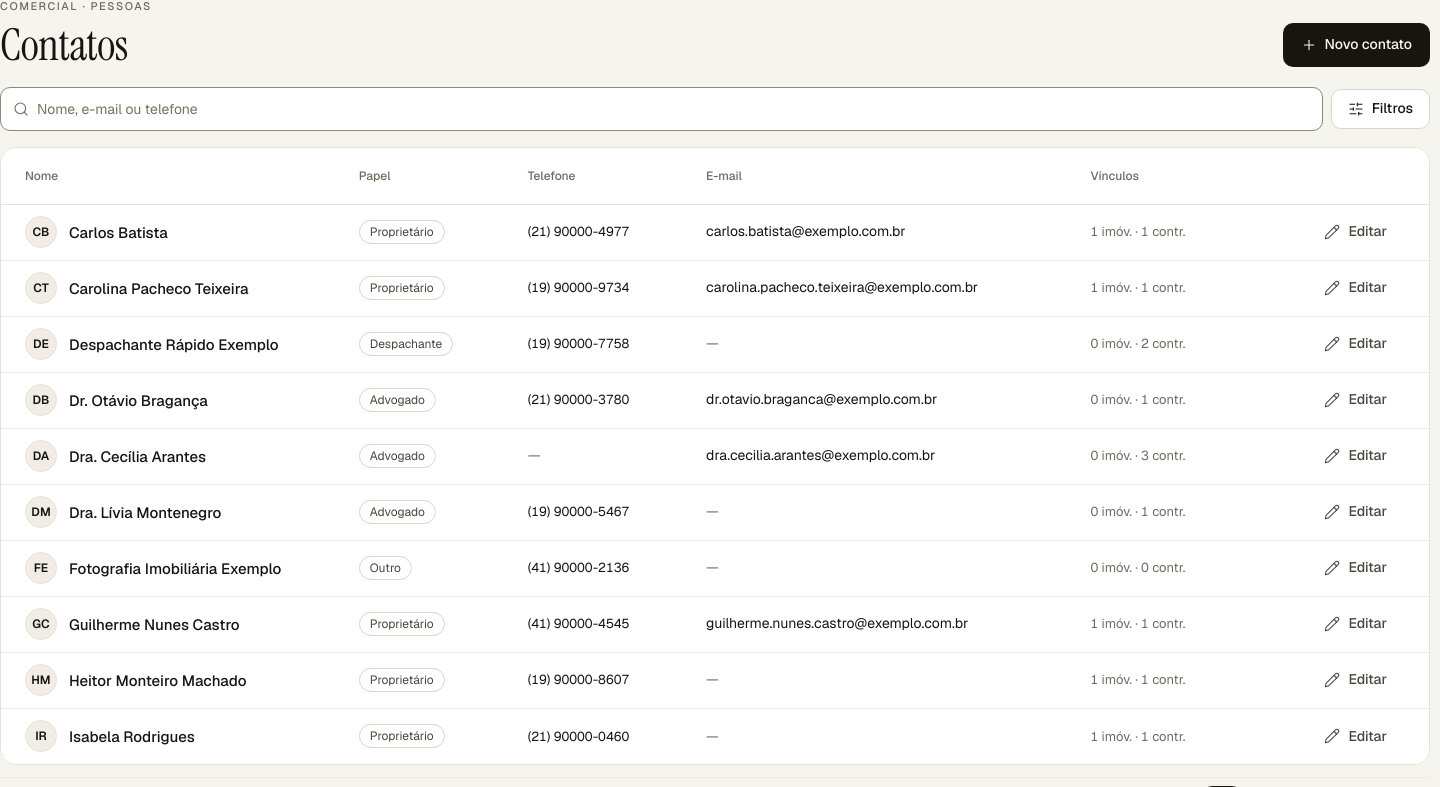
Test: TelaContatos (RF-74) › cria contato: valida inline e depois salva com toast
Click the button "Novo contato". click: (1356, 45)
box: [1283,23,1430,67]
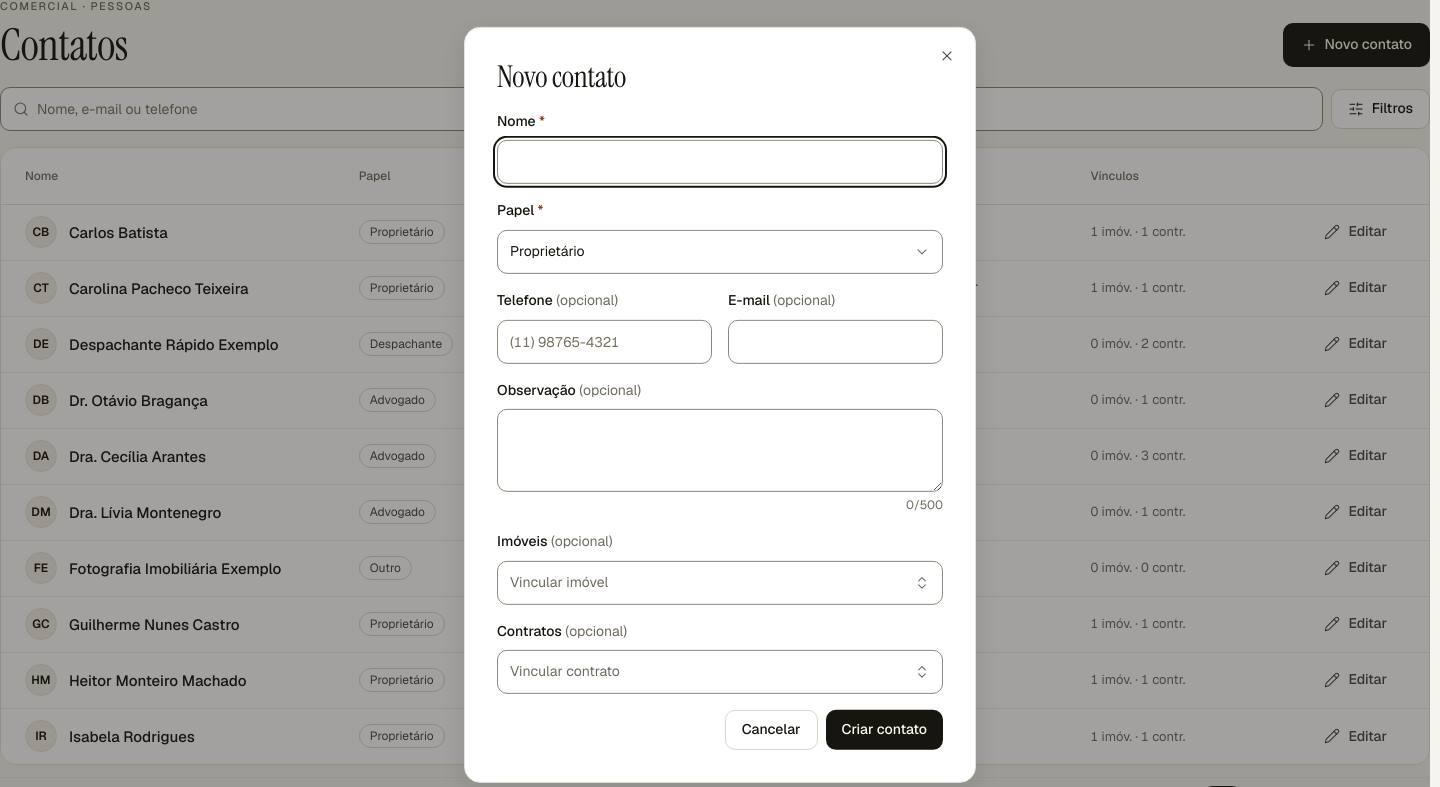
Click the button "Criar contato". click: (884, 730)
box: [826,710,943,750]
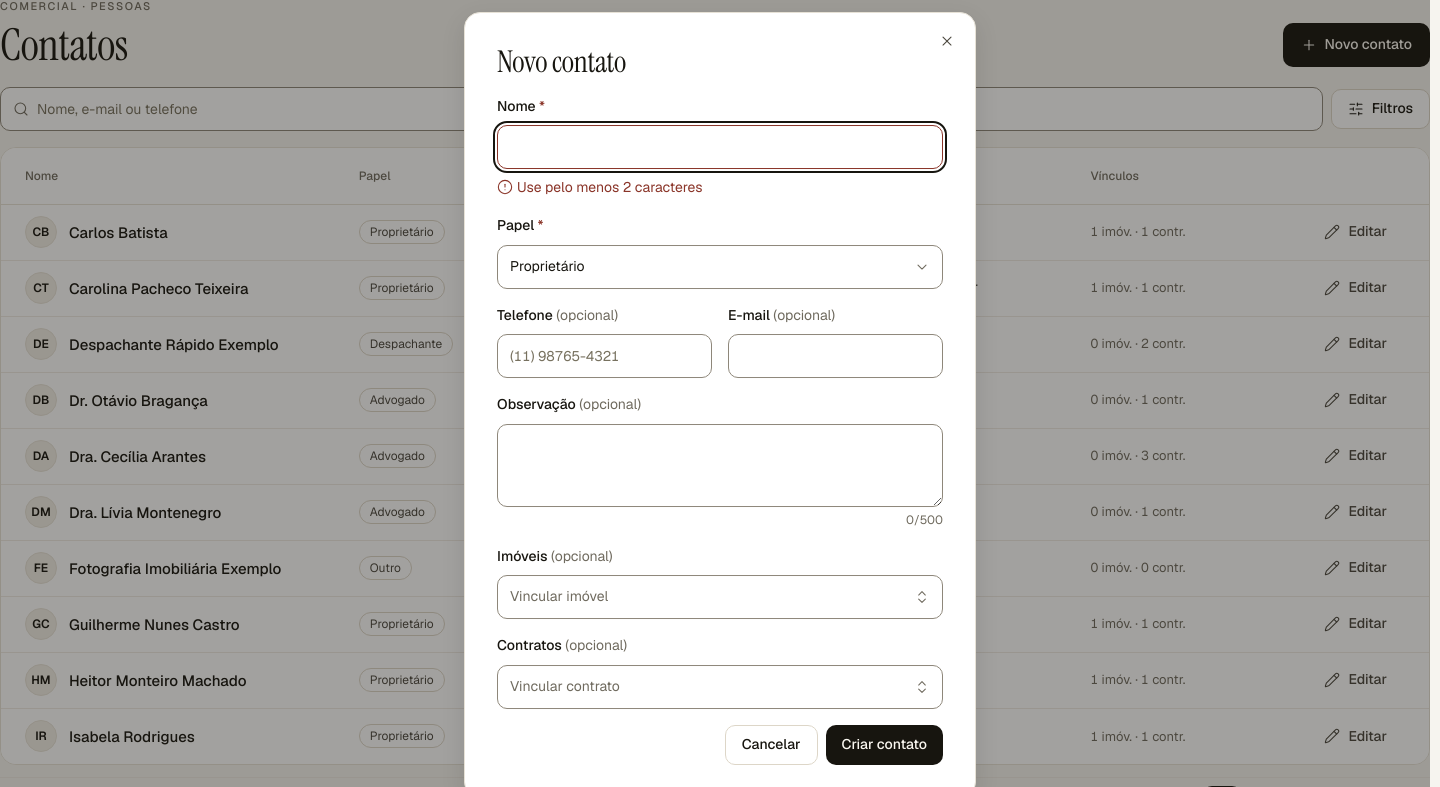
Type "Paulo Teste" into the field labelled "Nome *". click: (720, 147)
box: [510,126,930,168]
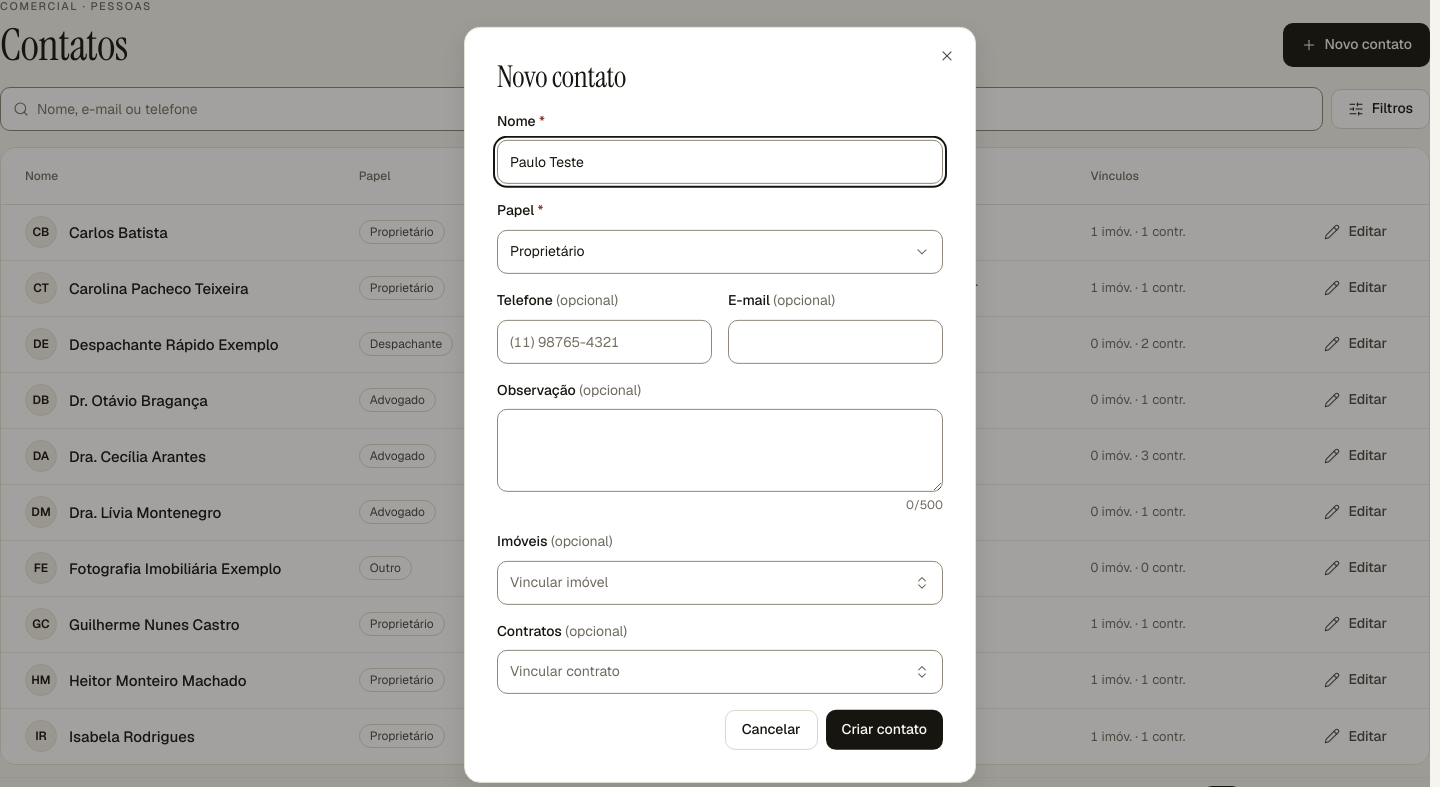
Click the button "Criar contato". click: (884, 730)
box: [826,710,943,750]
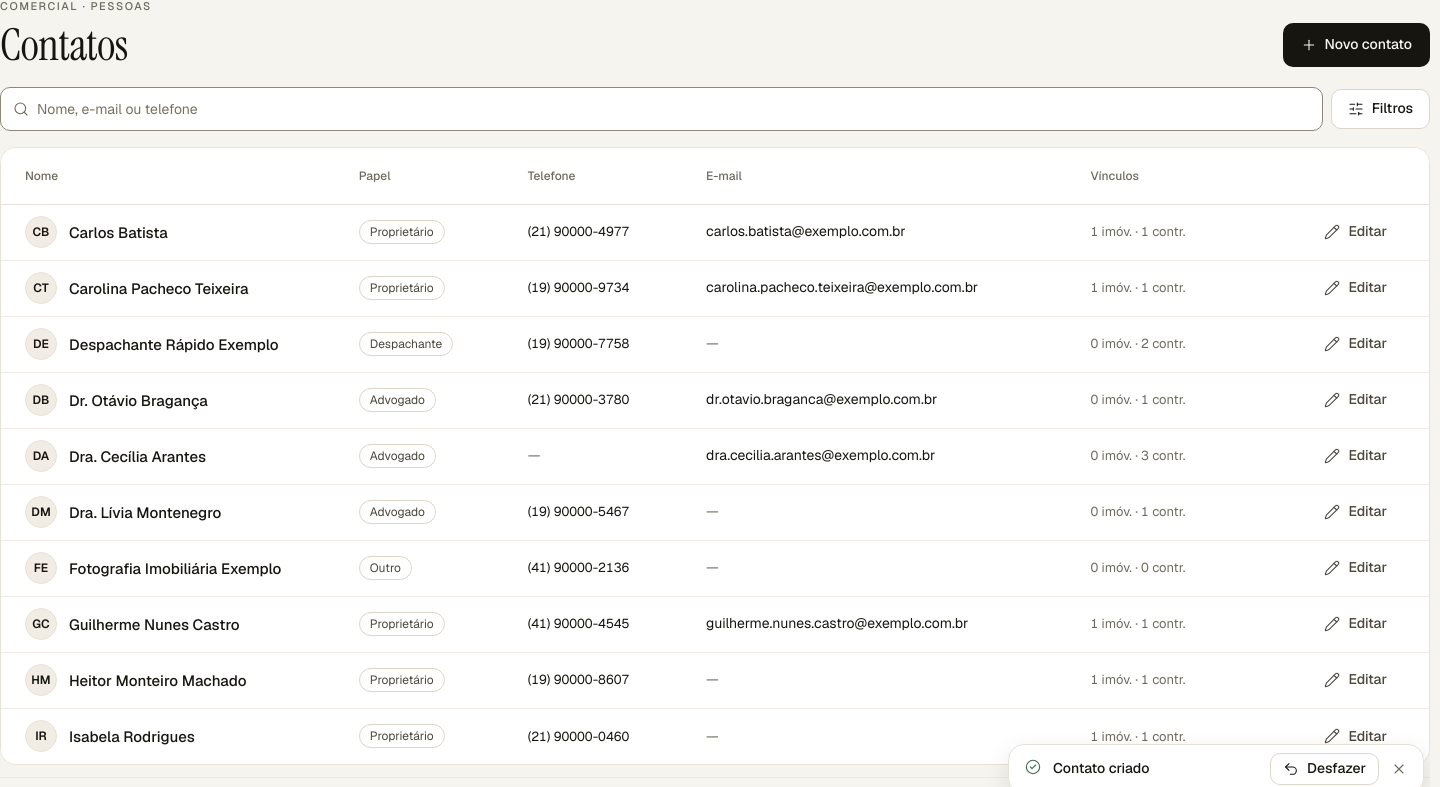
Now the text "Contato criado" is shown, box [1053,759,1149,777]
